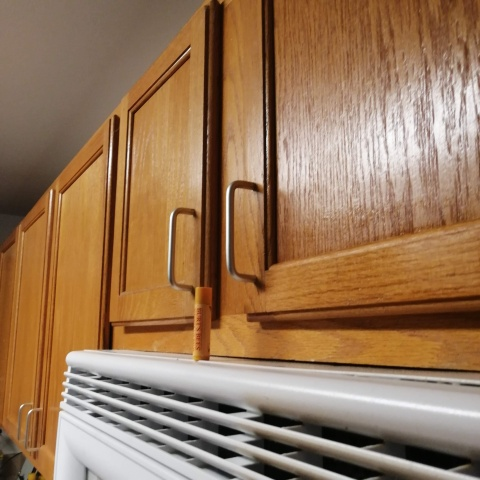chapstick: (192, 286, 213, 361)
